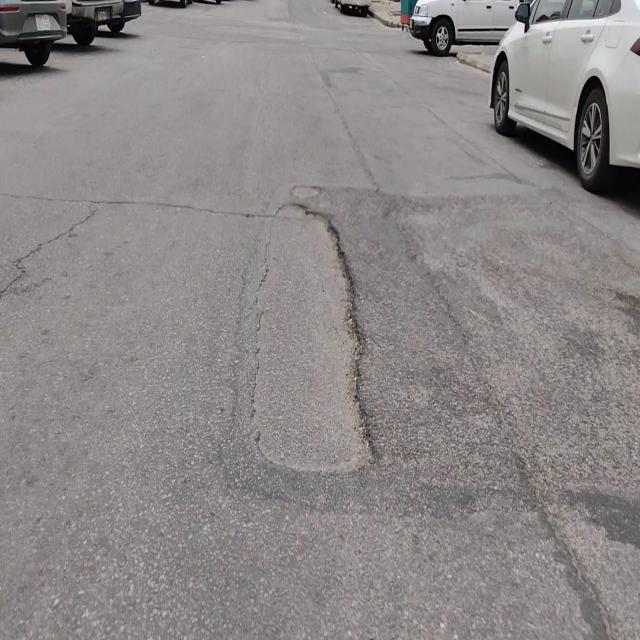Potholes: (253, 199, 379, 480)
